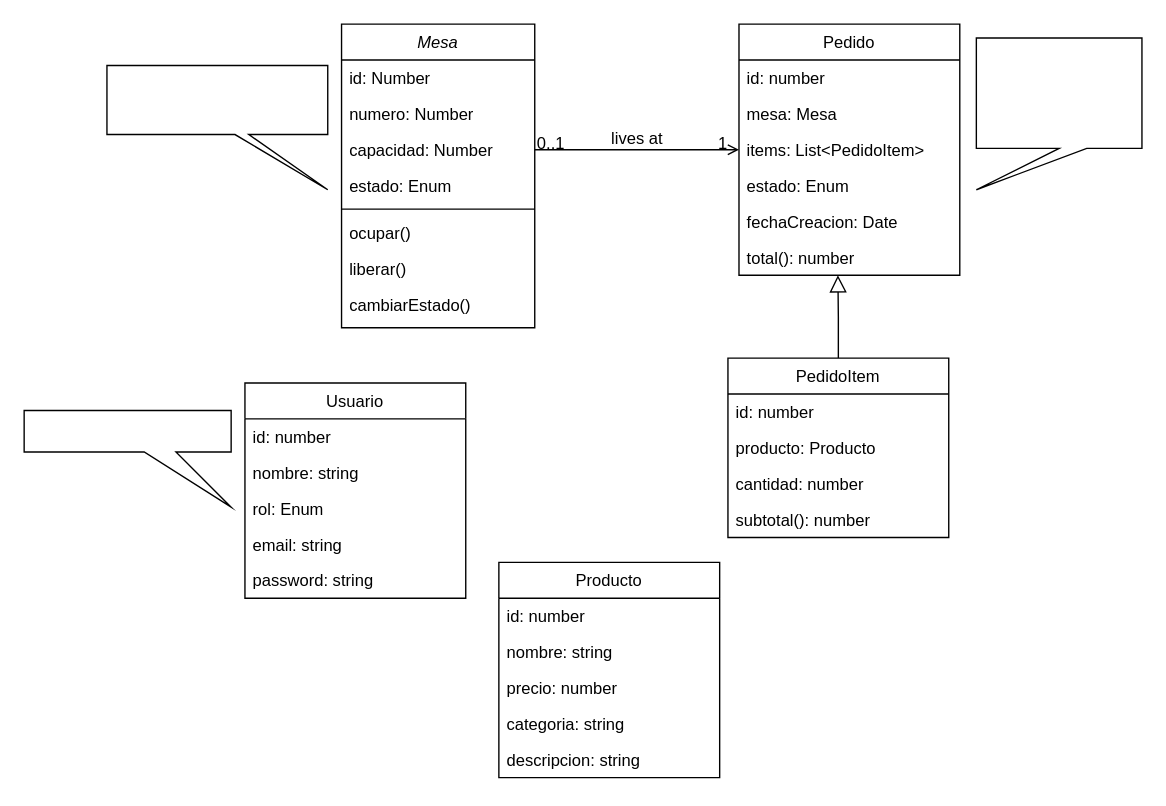
The diagram is 1166 pixels wide and 806 high, and some of its shapes have lost their labels. Here are the shapes that lost their labels. From the top down, the centre of each, then its label:
At (x=217, y=127): "(LIBRE, OCUPADA, ESPERANDO_PEDIDO, SERVIDA)".
At (x=1058, y=113): "(PENDIENTE, EN_PREPARACION, ENTREGADO, CANCELADO)".
At (x=127, y=458): "(ADMIN, MOZO, COCINA)".
